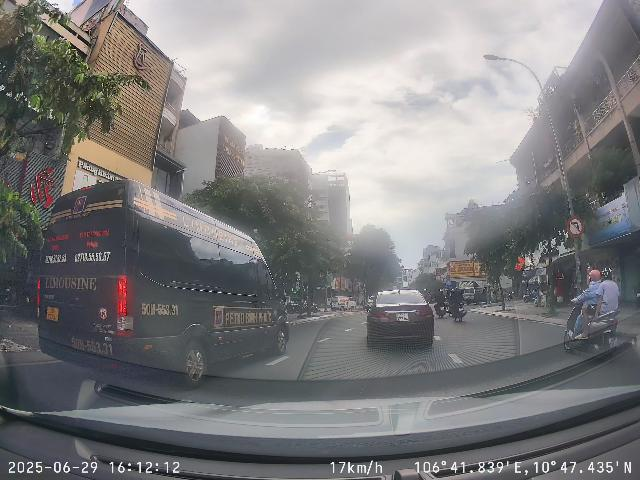123a-cam-re-trai: (567, 216, 584, 237)
